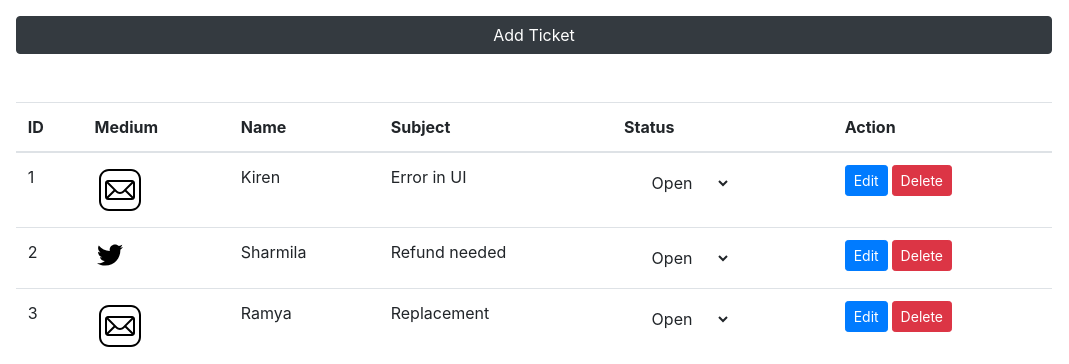
Test: Click delete button will delete the ticket from list
Expected: the text "Kiren" is shown, x1=229 y1=152 x2=379 y2=228
Click the button "Delete" in the row of "Kiren". click: (922, 180)
box: x1=892 y1=165 x2=952 y2=196
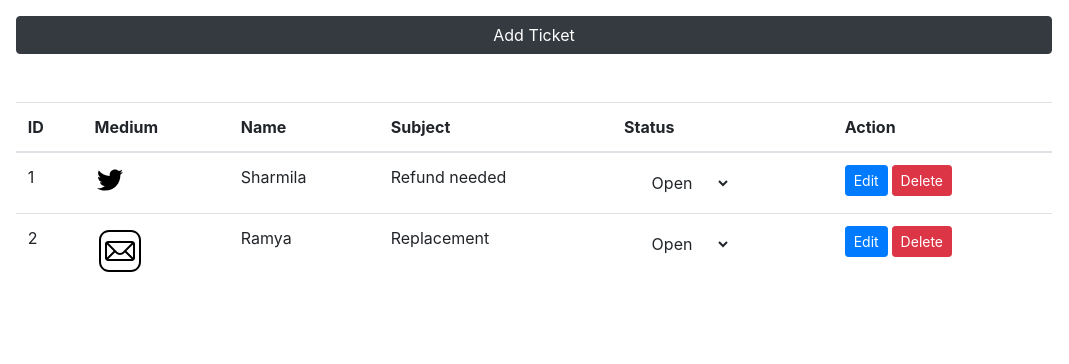
Now the text "Kiren" is gone
